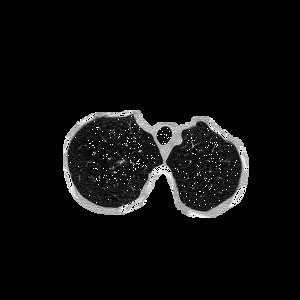PN: (118, 159, 124, 165)
